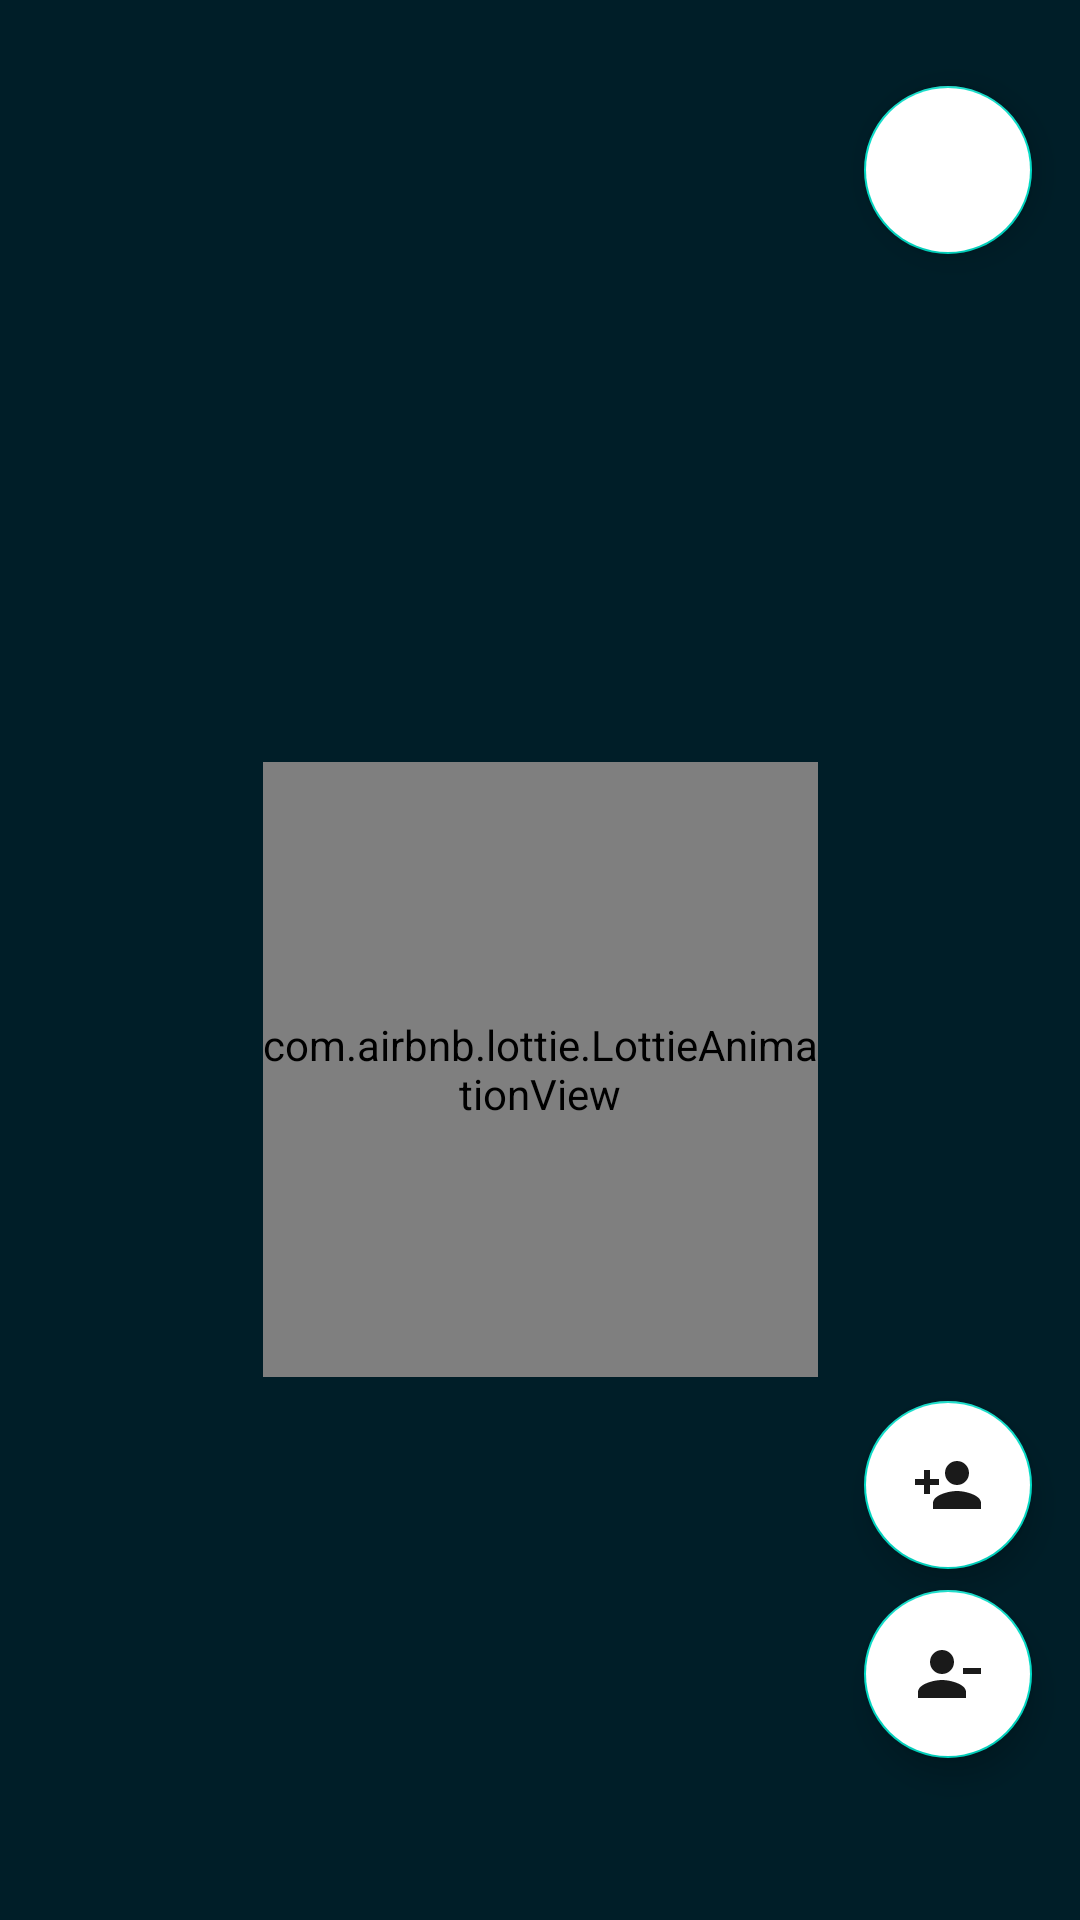

Point at icon controls on the screen. Image size 1080x1920, points as [x,y].
Odstrániť priateľa: [948,1674]
Pridať priateľa: [948,1485]
